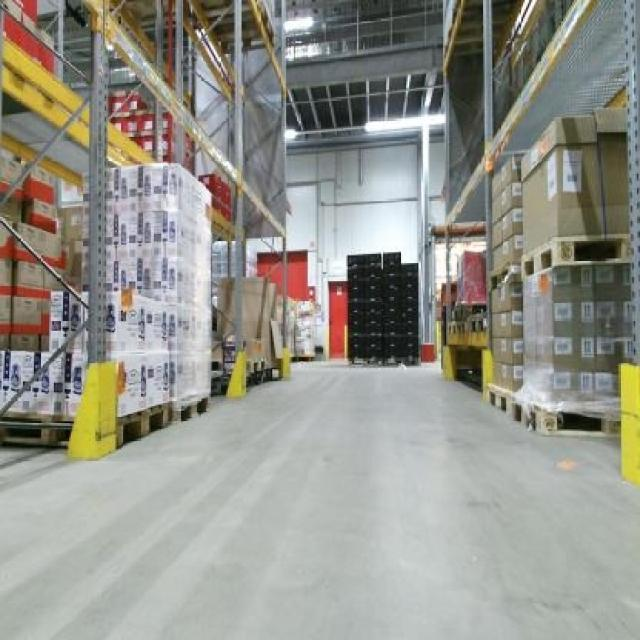floor: (0, 362, 637, 637)
pallets: (105, 162, 208, 442), (0, 334, 83, 442), (346, 251, 415, 362), (49, 289, 82, 349), (0, 349, 40, 397)
